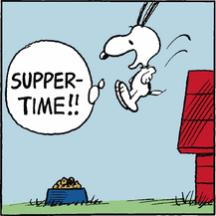snoopy: (98, 1, 168, 114)
